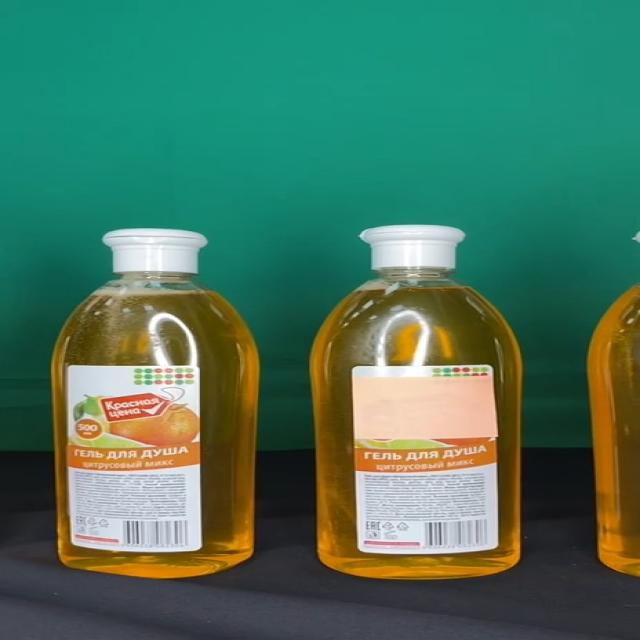Bottle: (309, 225, 522, 579), (51, 228, 261, 579)
Cap: (359, 225, 465, 269), (102, 229, 208, 272)
